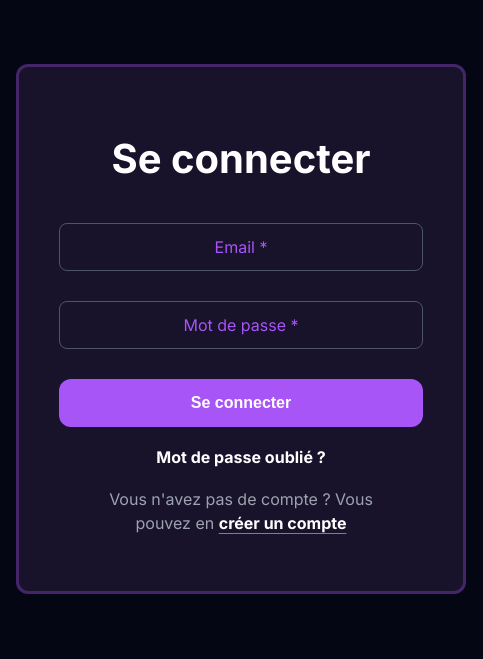
Test: <Login> › explique un refus 401 sans dire si c’est l’email ou le mot de passe
Step 1. Type "ada@weeb.fr" into the field labelled "Email *" → x=241, y=247, box [59,223,423,271]
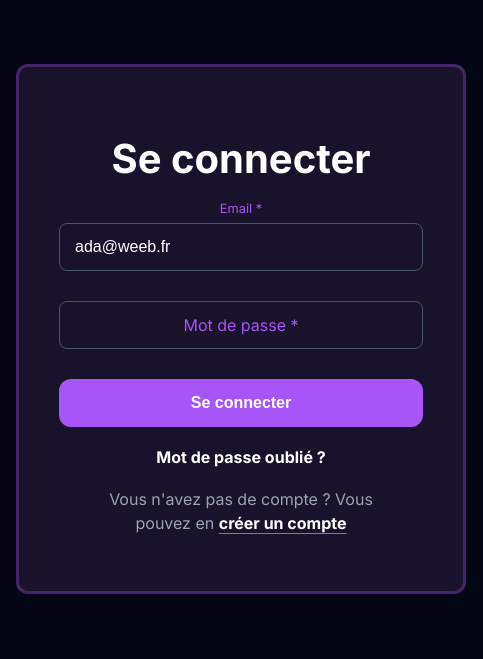
Step 2. Type "MotDePasse!2026" into the password field labelled "Mot de passe *" → x=241, y=325, box [59,301,423,349]
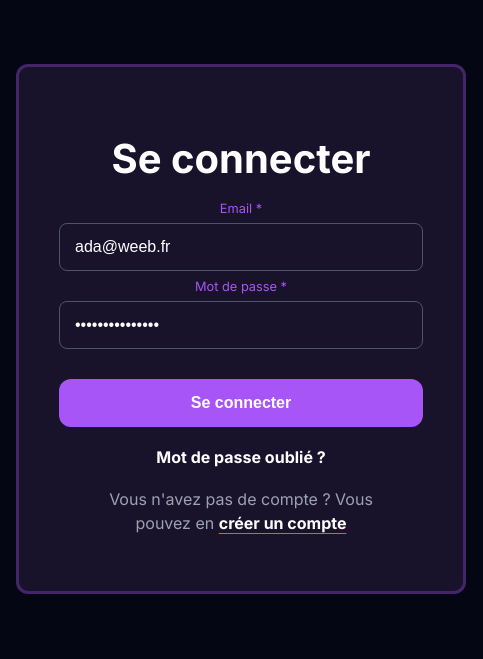
Step 3. Click the button "Se connecter" → x=241, y=403, box [59,379,423,427]
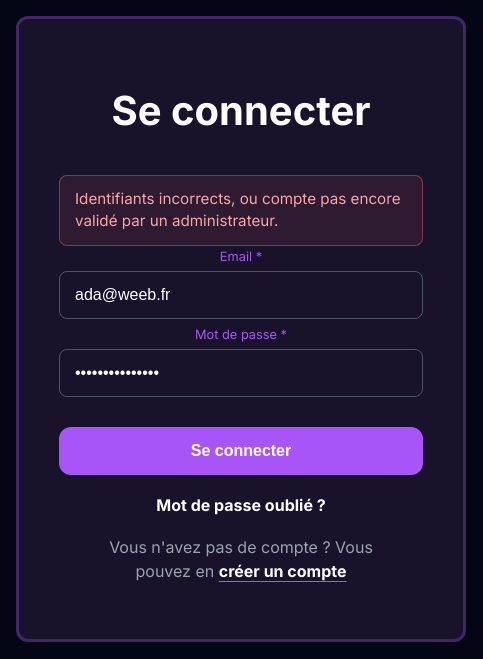
Now the text "Identifiants incorrects, ou compte pas encore validé par un administrateur." is shown, box [59,175,423,246]
